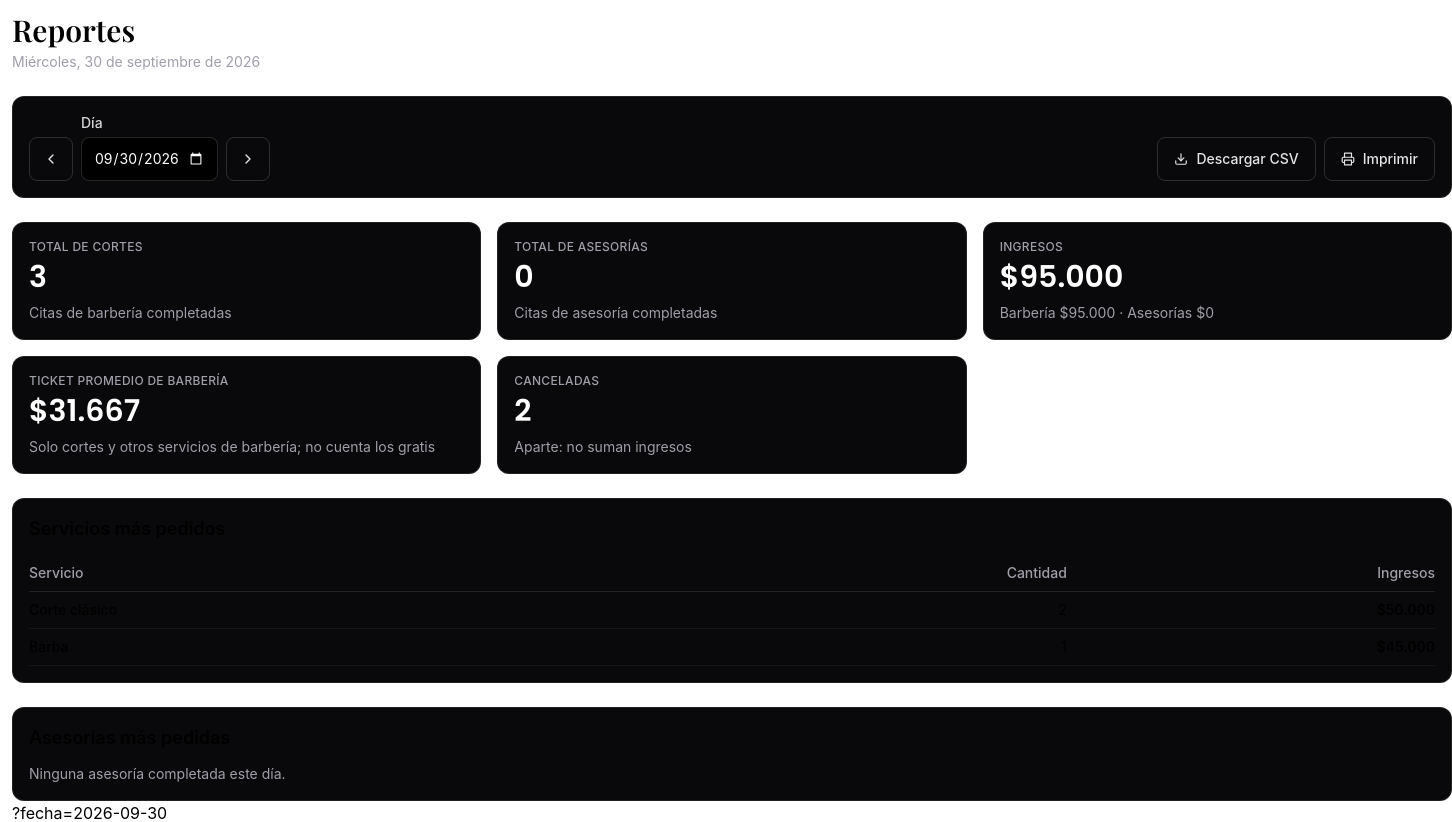
Scenario: Reportes: selector de día y URL › "Día siguiente" avanza un día y se vuelve a deshabilitar al llegar a hoy; cruza el cambio de mes
Click the button named "Día siguiente" at (248, 159), box [226,137,270,181]
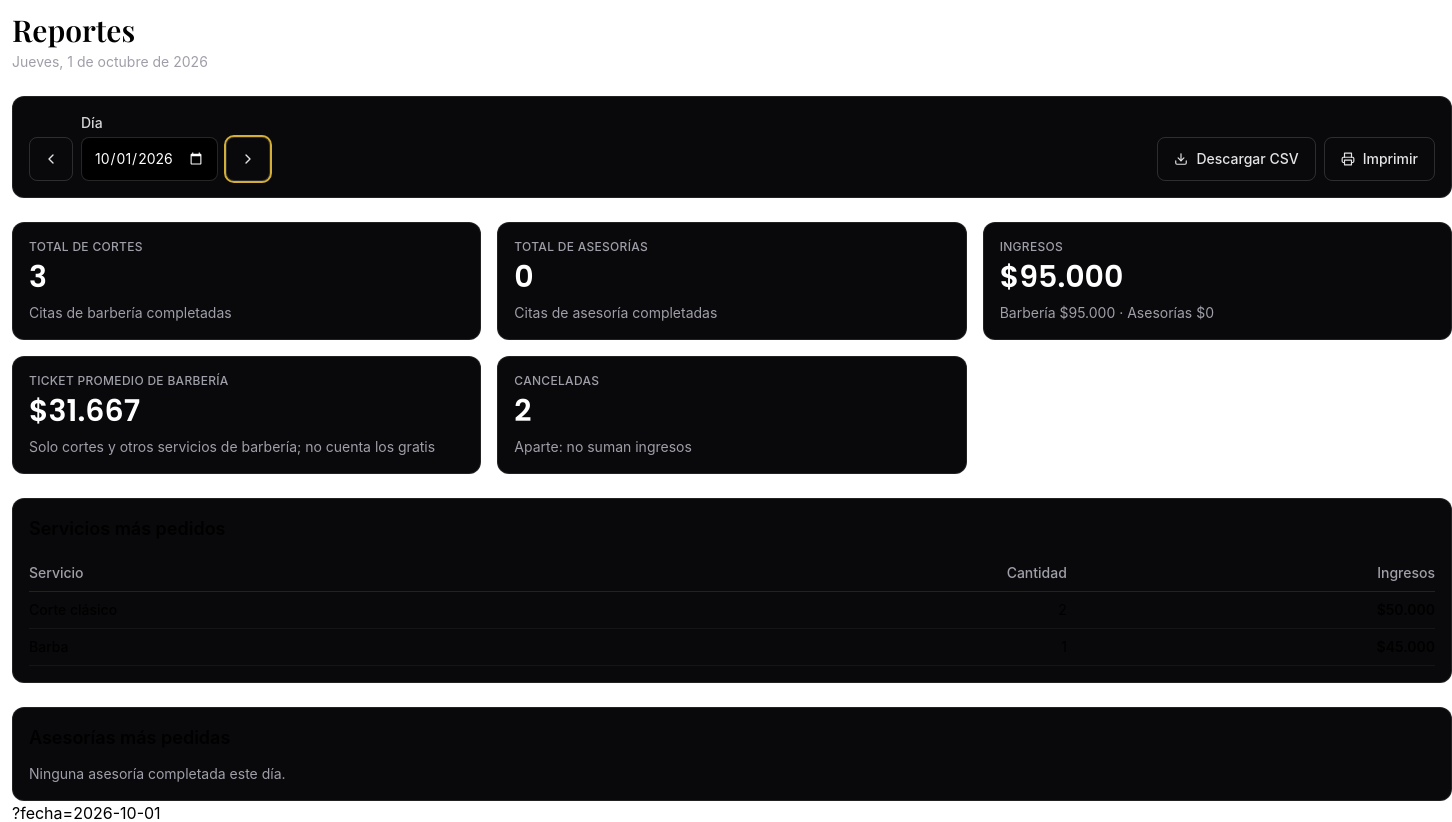
expect the date field labelled "Día" holds "2026-10-01": met, box [81,137,218,181]
Click the button named "Día anterior" at (51, 159), box [29,137,73,181]
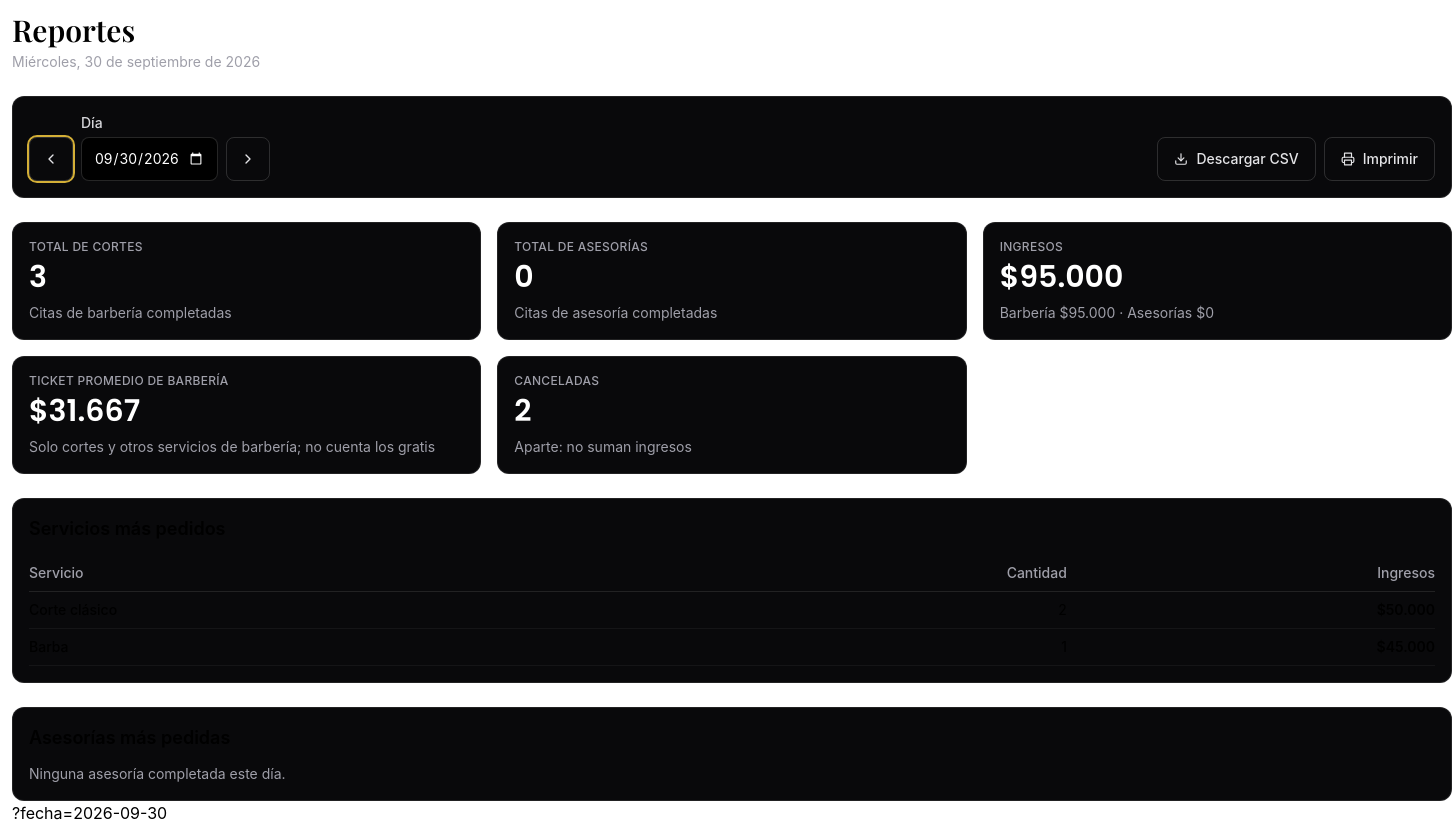
Click the button named "Día anterior" at (51, 159), box [29,137,73,181]
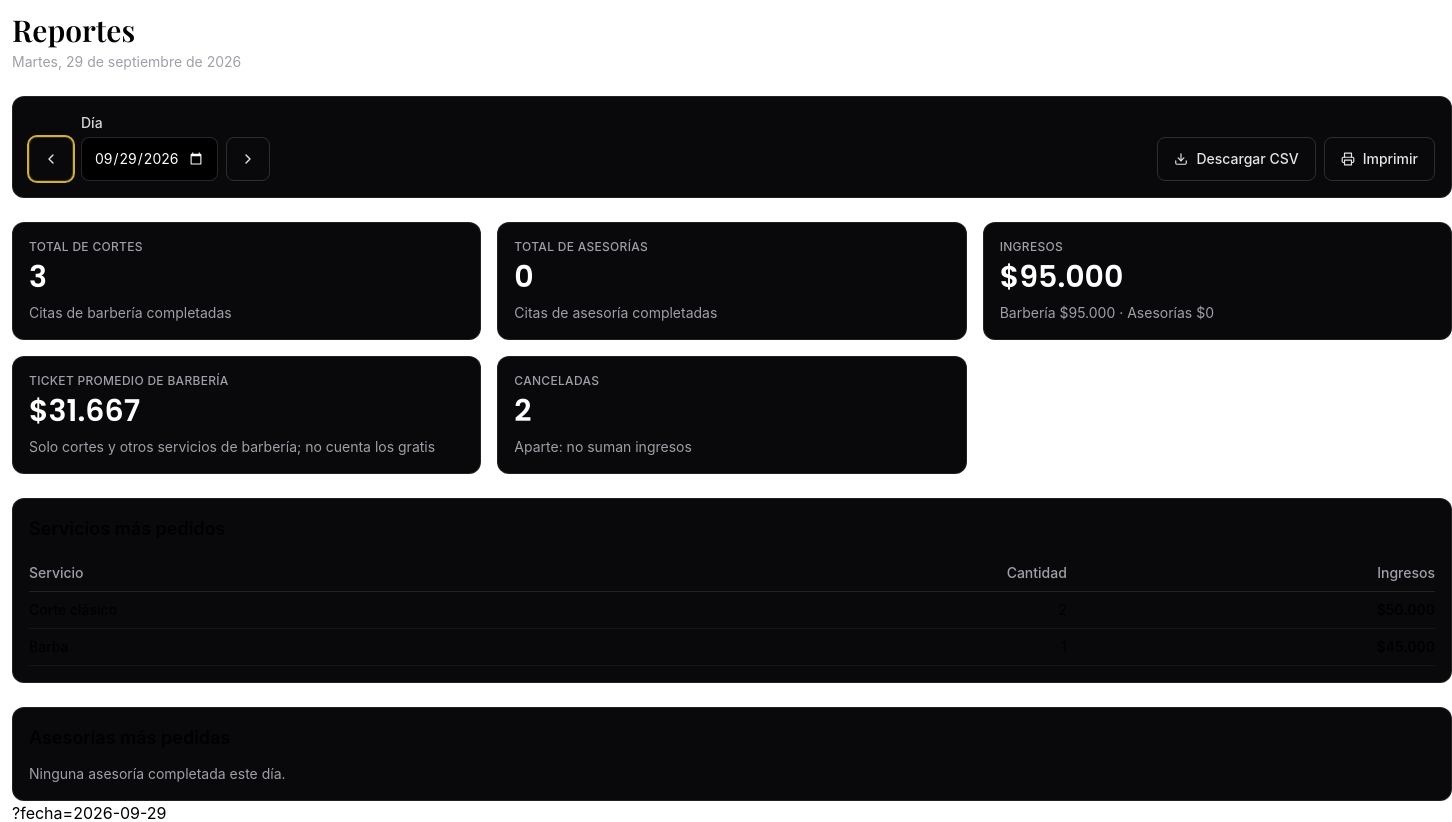
expect the date field labelled "Día" holds "2026-09-29": met, box [81,137,218,181]
